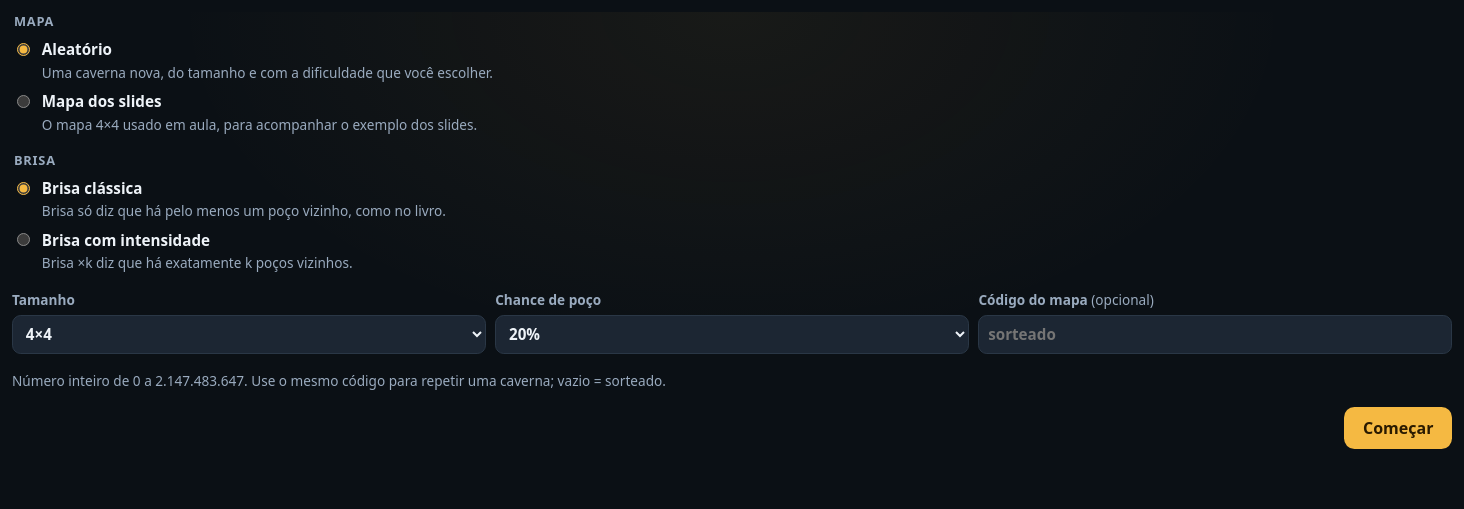
Test case: GameSetupForm seed validation › rejects -3 without submitting
The width and height of the screenshot is (1464, 509).
Type "-3" into the field labelled "Código do mapa (opcional)". click: (1215, 334)
box: [978,315,1452,354]
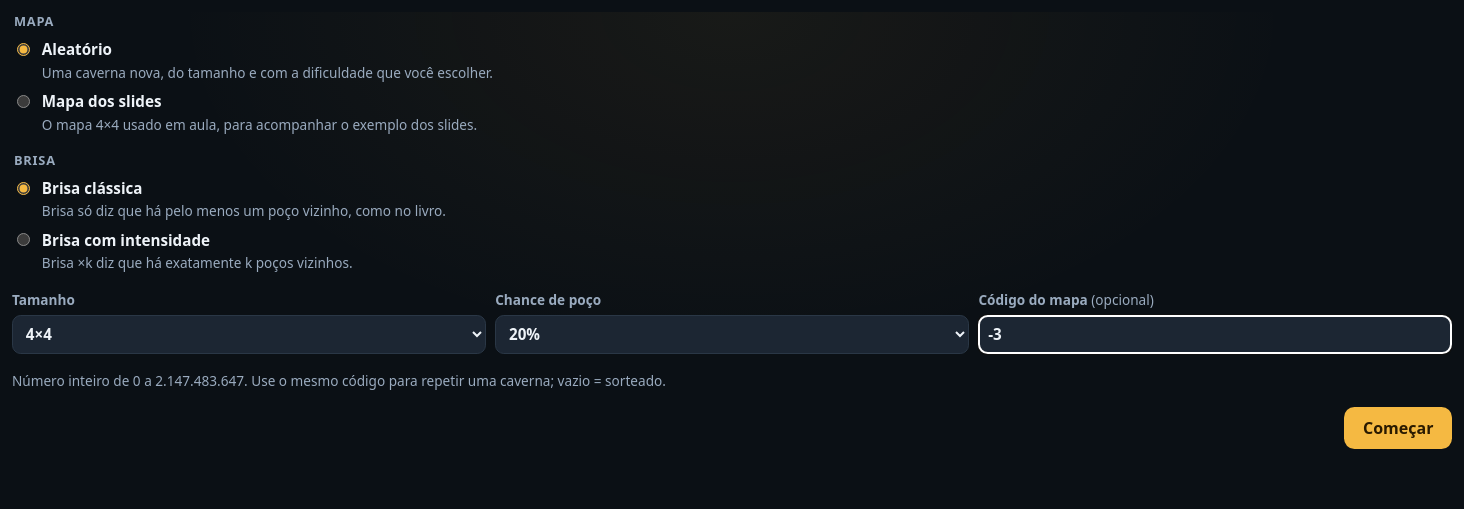
Click the button "Começar". click: click(1398, 428)
box: [1344,407,1452,449]
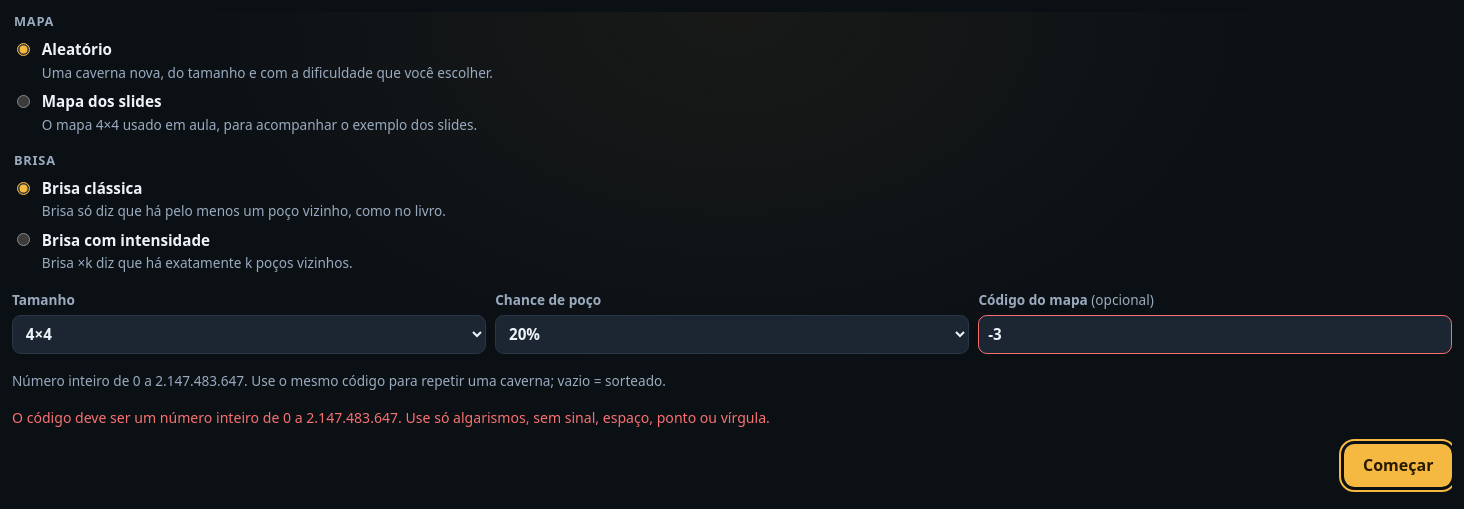
expect the message shows "número inteiro de 0 a 2.147.483.647": met, box [12,408,770,427]
